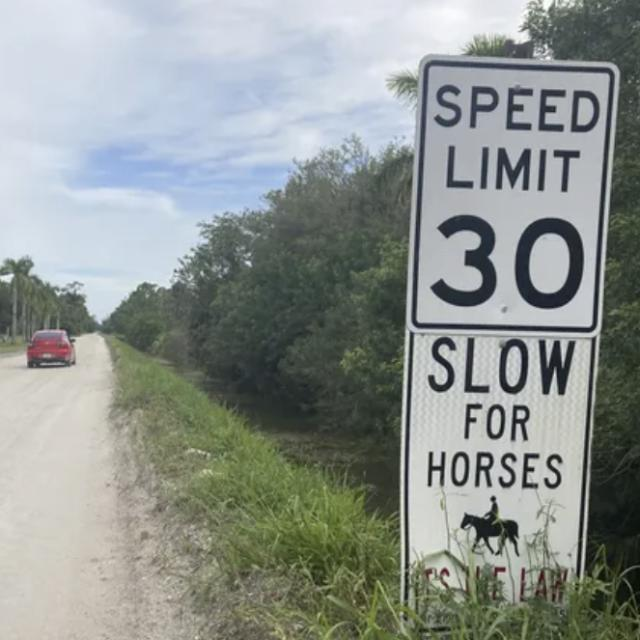speedLimit30: (420, 71, 604, 322)
